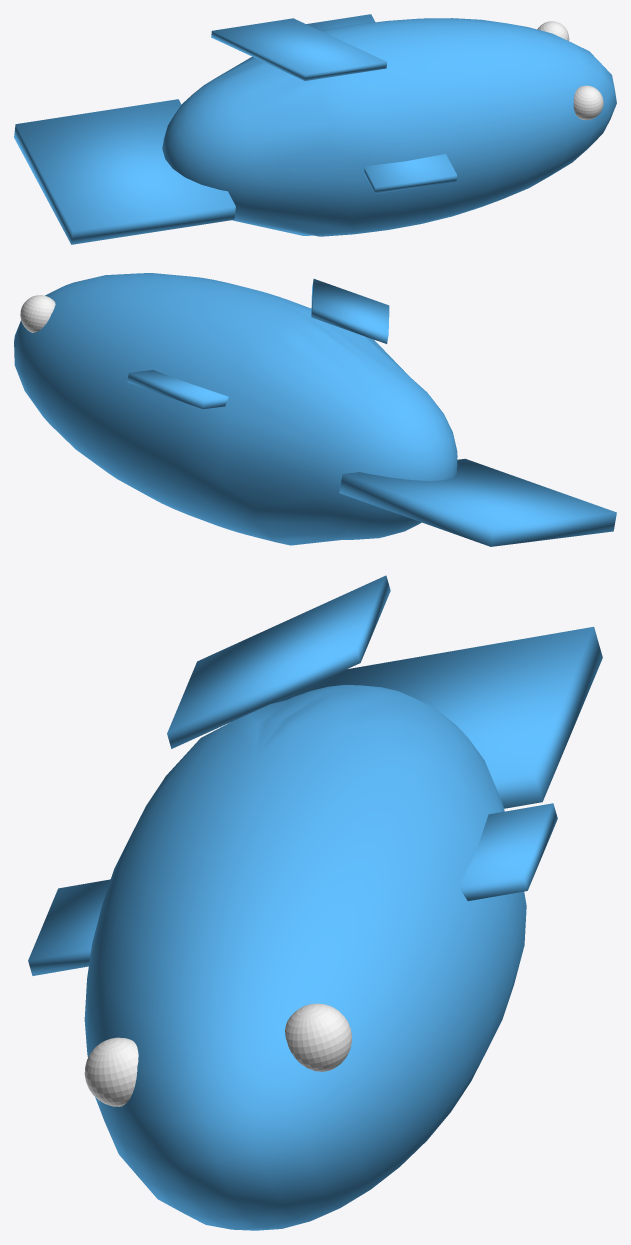
File: fish2.glb
3 views of the same model, one above another, from view 1: azimuth 30°, elevation 25°; view 2: azimuth 150°, elevation 25°; view 3: azimuth 270°, elevation 25° (orthographic). The views are drawn at different scales.
Visible parts, largest first — view 1: FishBody, TailFin, DorsalFin, SideFinRight, EyeRight, SideFinLeft, EyeLeft; view 2: FishBody, TailFin, DorsalFin, SideFinLeft, EyeLeft; view 3: FishBody, TailFin, DorsalFin, SideFinLeft, SideFinRight, EyeLeft, EyeRight.
Boxes of the visible parts, x1,y1,x2,y2 form: FishBody: (162,18,616,236); TailFin: (14,99,235,244); DorsalFin: (211,18,387,80); SideFinRight: (364,154,456,194); EyeRight: (573,85,603,120); SideFinLeft: (306,14,375,30); EyeLeft: (537,21,569,40); FishBody: (14,273,457,545); TailFin: (339,458,616,546); DorsalFin: (311,279,389,343); SideFinLeft: (127,370,228,409); EyeLeft: (20,295,55,332); FishBody: (84,684,526,1230); TailFin: (271,626,602,808); DorsalFin: (167,575,390,748); SideFinLeft: (458,803,557,900); SideFinRight: (28,879,110,975); EyeLeft: (285,1003,351,1071); EyeRight: (84,1037,138,1106).
Bounding box in the file's own units: 3.53 × 1.34 × 1.66.
